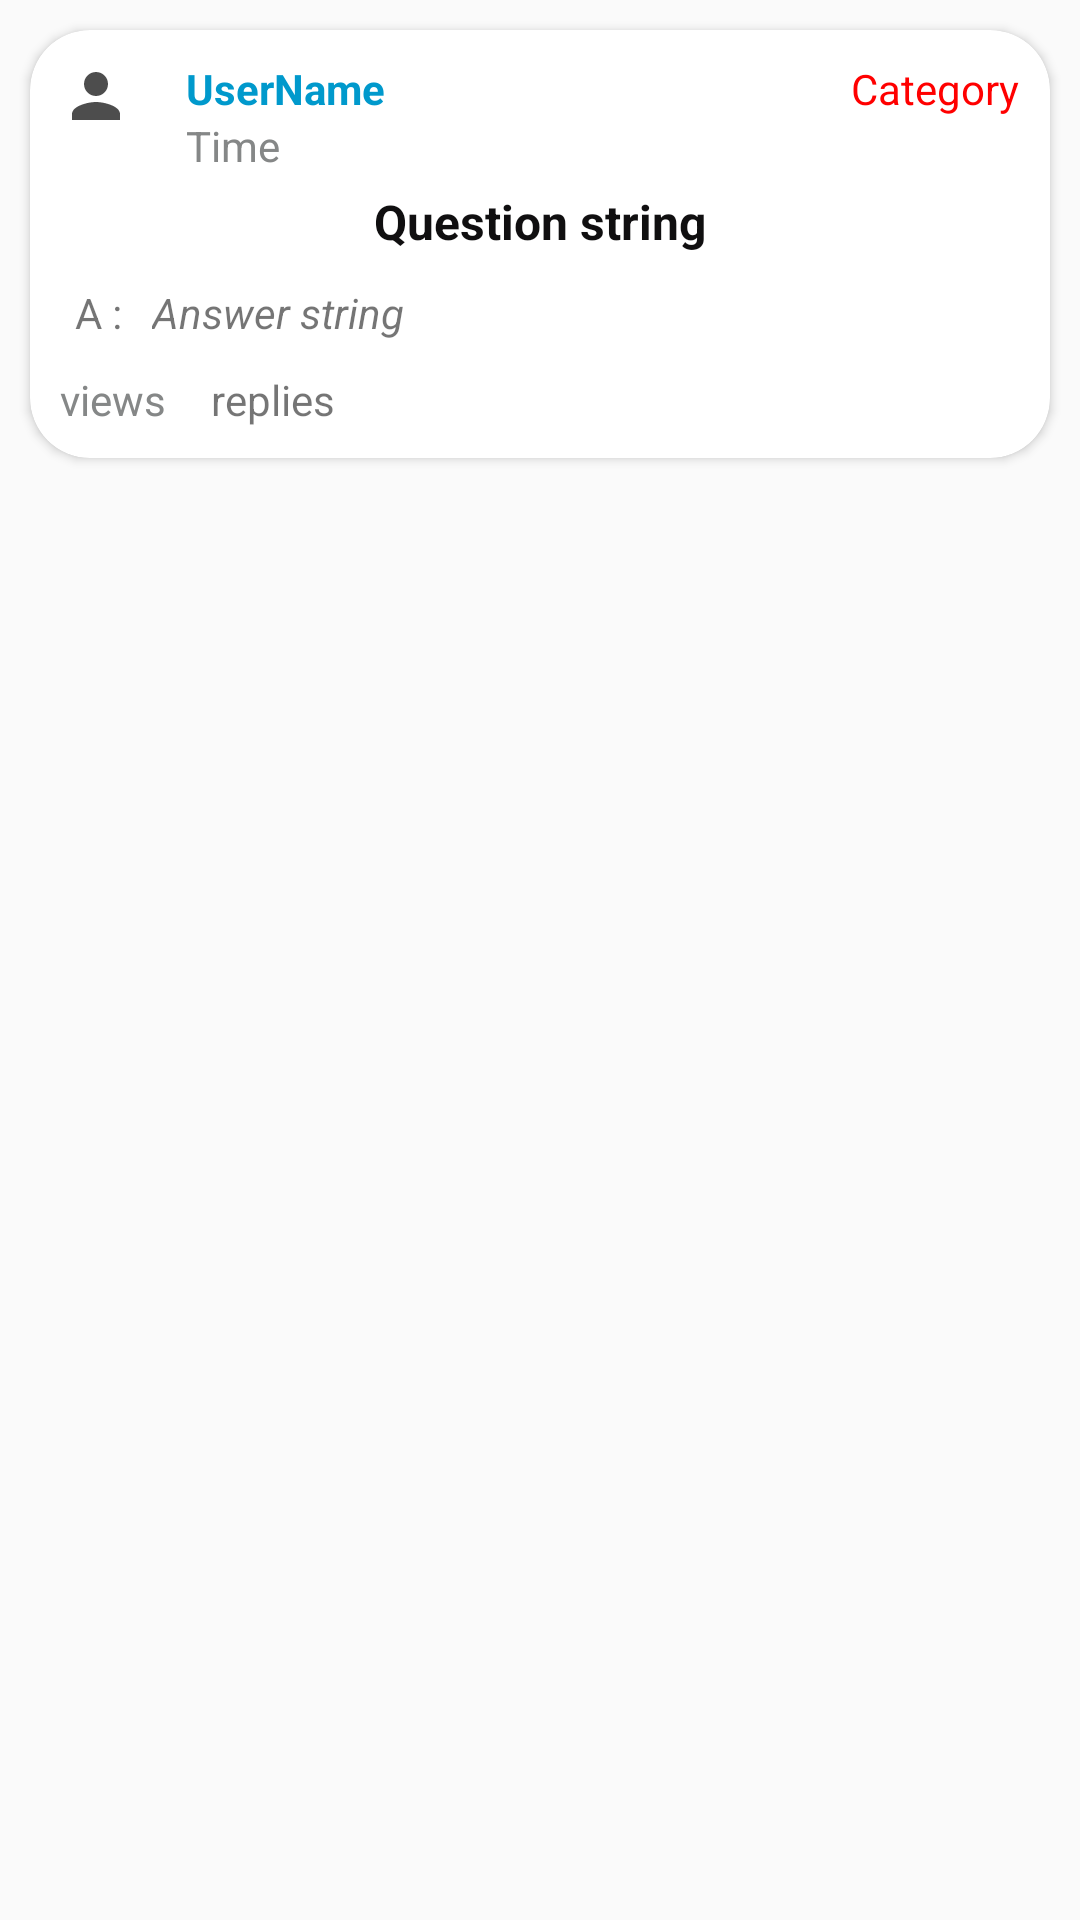

Icon click points for this 1080 x 1920 phone screenshot, format (x=x, y=y):
person: (x=96, y=96)
